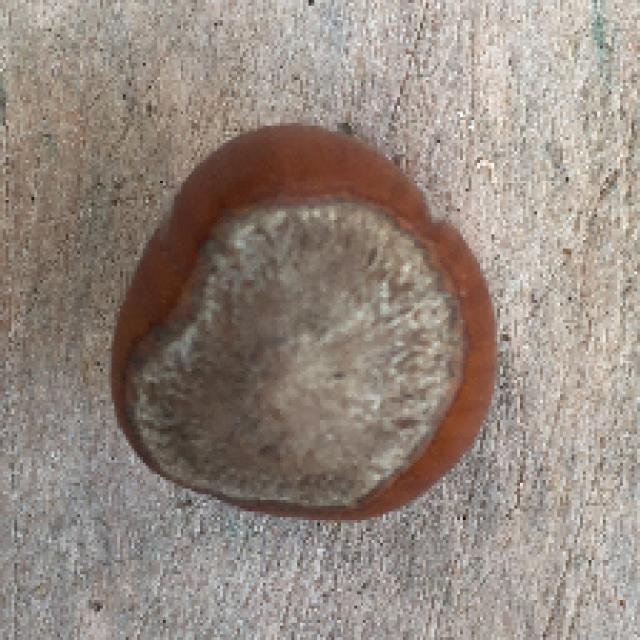qualityHazelnut: (94, 122, 503, 525)
